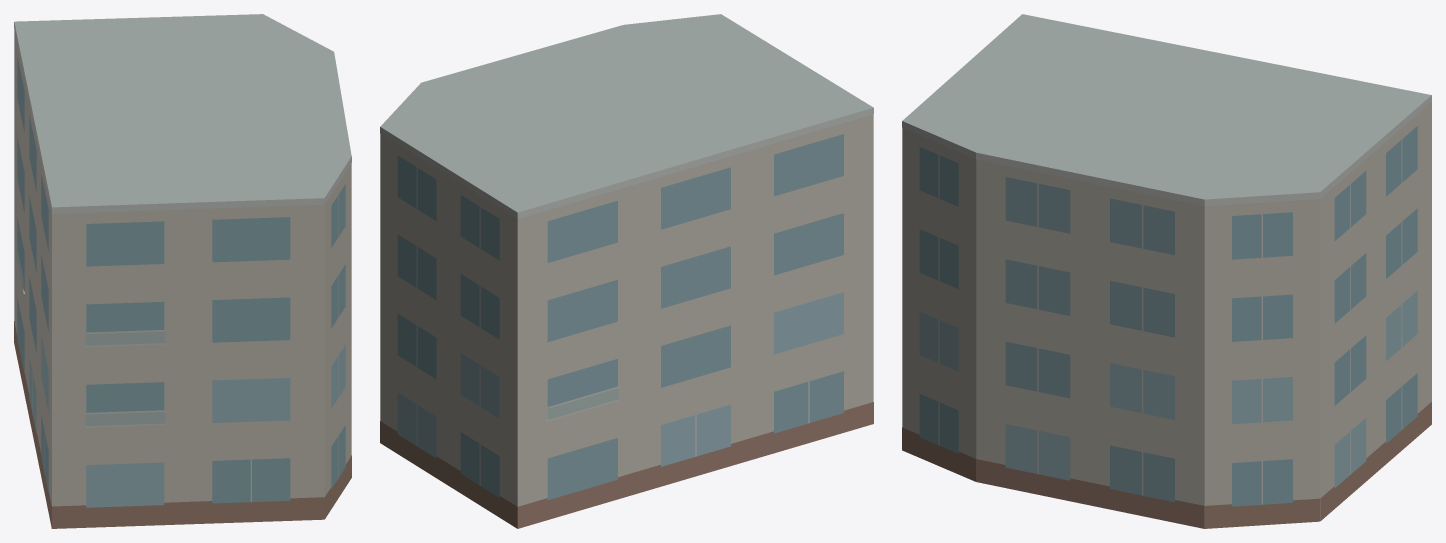
File: survey-upis-32484845.glb
The picture shows the model from 3 angles, left to right: view 1: azimuth 30°, elevation 25°; view 2: azimuth 150°, elevation 25°; view 3: azimuth 270°, elevation 25°; orthographic projection. The views are drawn at different scales.
Visible parts, largest first — view 1: survey-upis-32484845.tmp; view 2: survey-upis-32484845.tmp; view 3: survey-upis-32484845.tmp.
Part boxes in pixels (x1,y1,x2,y2): survey-upis-32484845.tmp: (14, 14, 351, 528); survey-upis-32484845.tmp: (380, 14, 873, 528); survey-upis-32484845.tmp: (902, 14, 1431, 528).
Size of the model in its own units: 14.39 by 11.9 by 17.36.
